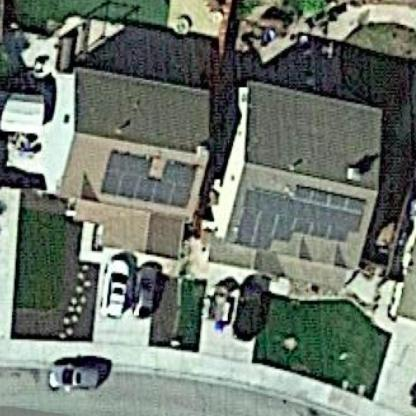car: (47, 355, 109, 395), (100, 251, 129, 327), (133, 259, 166, 321)
solar_panel: (228, 172, 366, 265), (97, 141, 198, 216)
